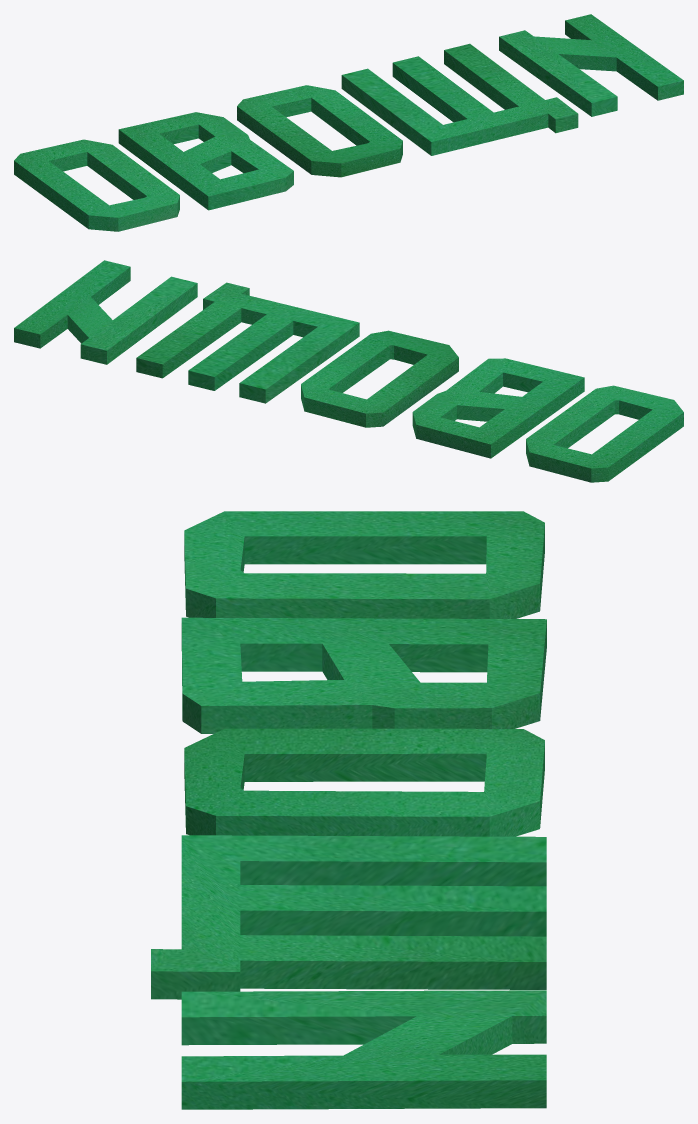
File: Title02.fbx
3 renders of one model, top to bottom at view 1: azimuth 30°, elevation 25°; view 2: azimuth 150°, elevation 25°; view 3: azimuth 270°, elevation 25°, orthographic. The views are drawn at different scales.
Parts seen in each view (by area): view 1: Text; view 2: Text; view 3: Text.
Part boxes in pixels (x1,y1,x2,y2): Text: (14,14,683,231); Text: (14,260,683,482); Text: (151,511,546,1109).
Size of the model in its own units: 283 by 6.46 by 82.97.
